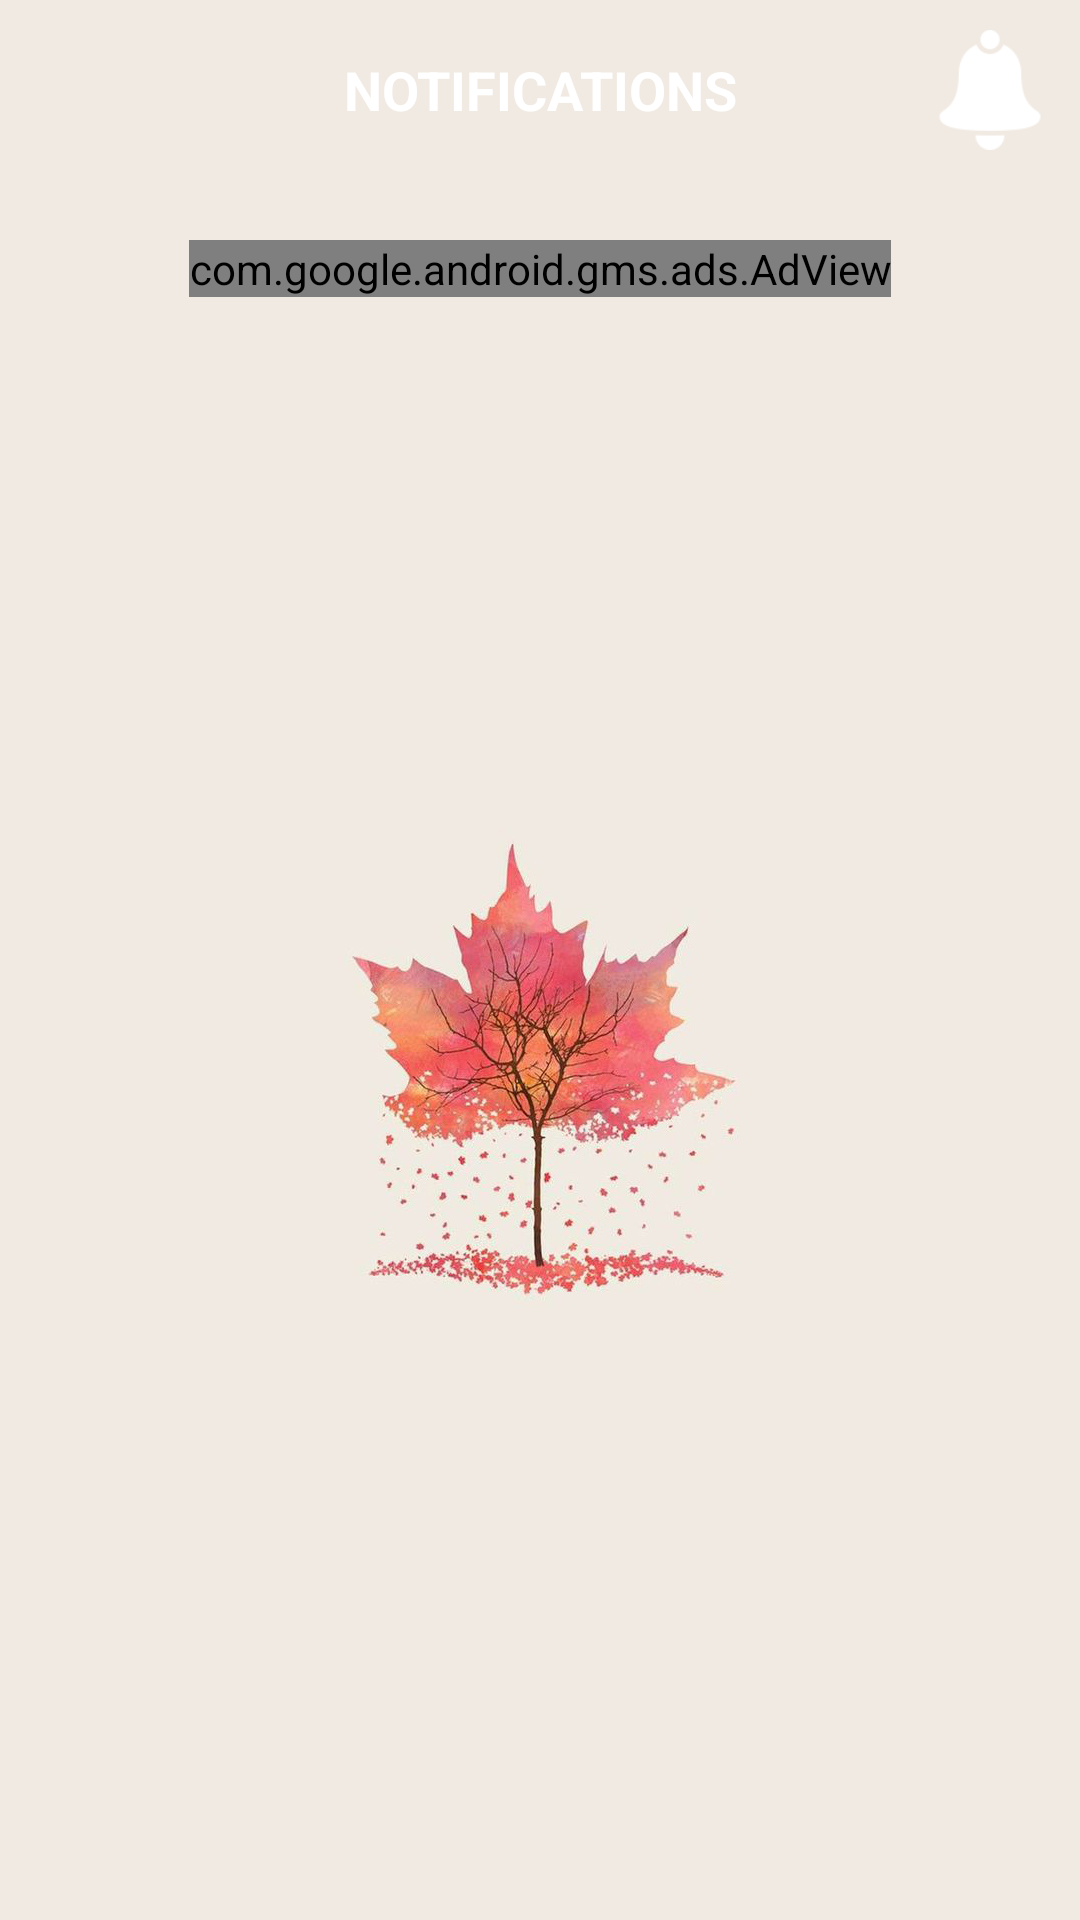

Icons on this 1080px x 1920px Android screen, each with its box as (x1, y1, x2, y2):
mes notification: (940, 30, 1040, 150)
